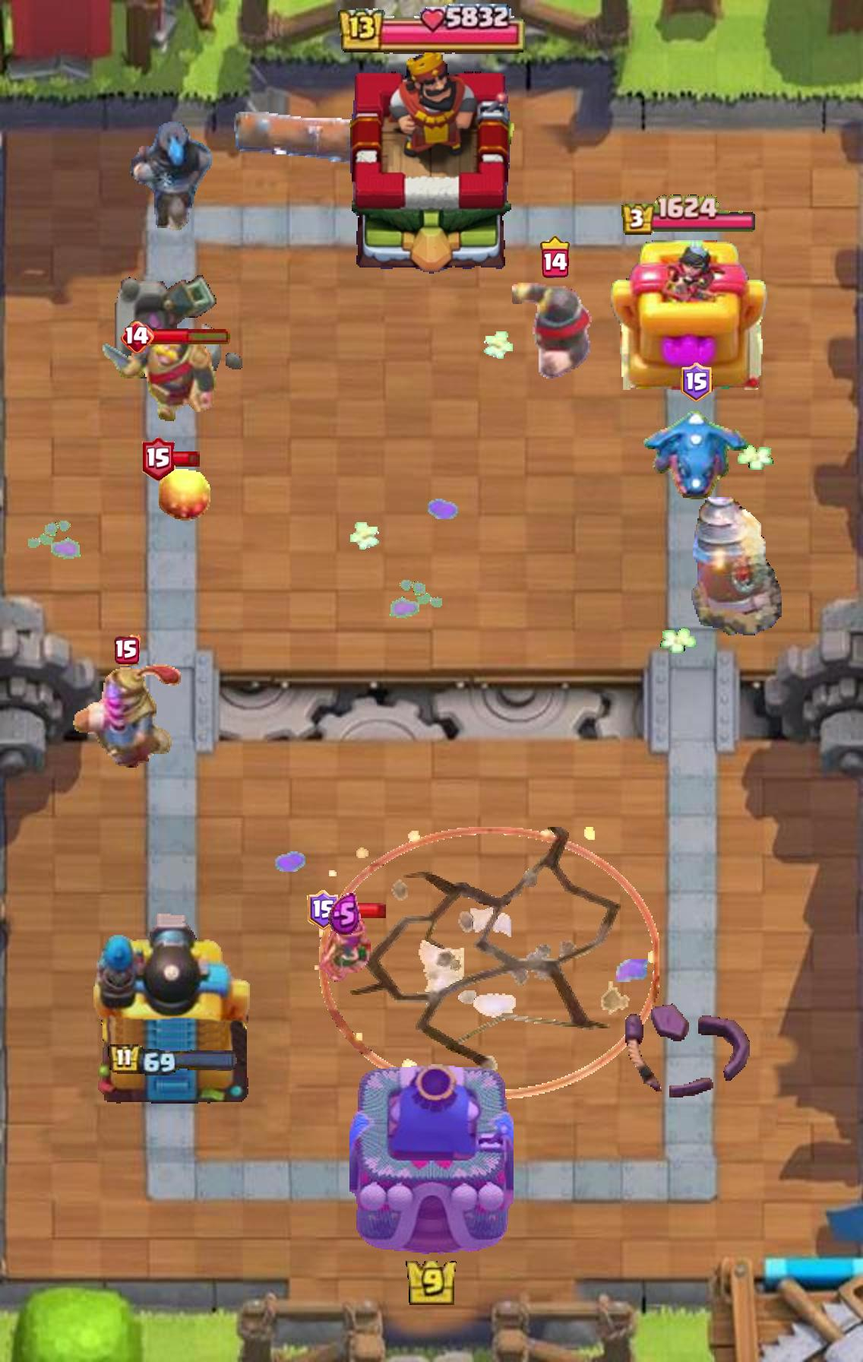bar: (150, 327, 231, 345), (335, 902, 387, 919), (172, 451, 201, 467)
bar-level: (142, 436, 175, 482), (307, 890, 339, 931), (540, 235, 569, 279), (680, 363, 712, 402), (121, 319, 154, 353), (113, 635, 141, 666)
